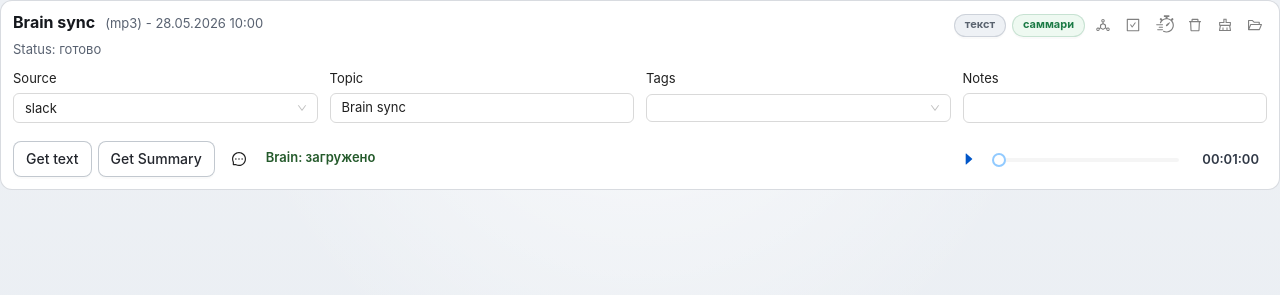
Test: SessionCard speed dropdown › defaults the selected speed to 1x when no selected speed audio is active
Click the button named "Выбрать скорость транскрибации" at [1165, 25], box [1153,13,1177,37]
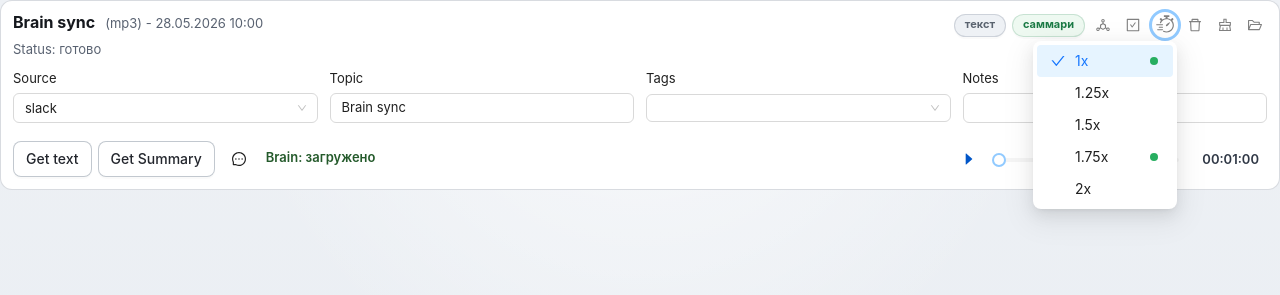
Now the menu item named "1x selected recording available" is shown, box [1037,45,1173,77]
Now the menu item named "1.75x recording available" is shown, box [1037,141,1173,173]
